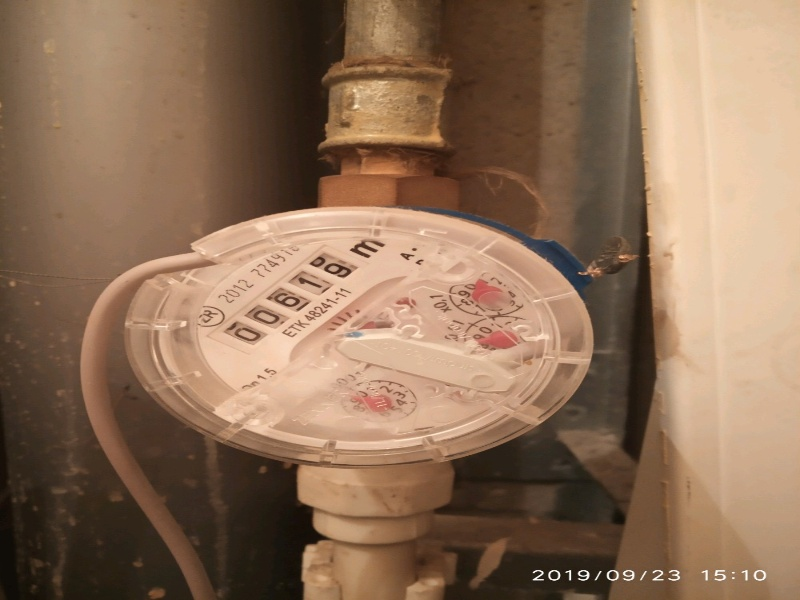meter: (208, 258, 360, 348)
